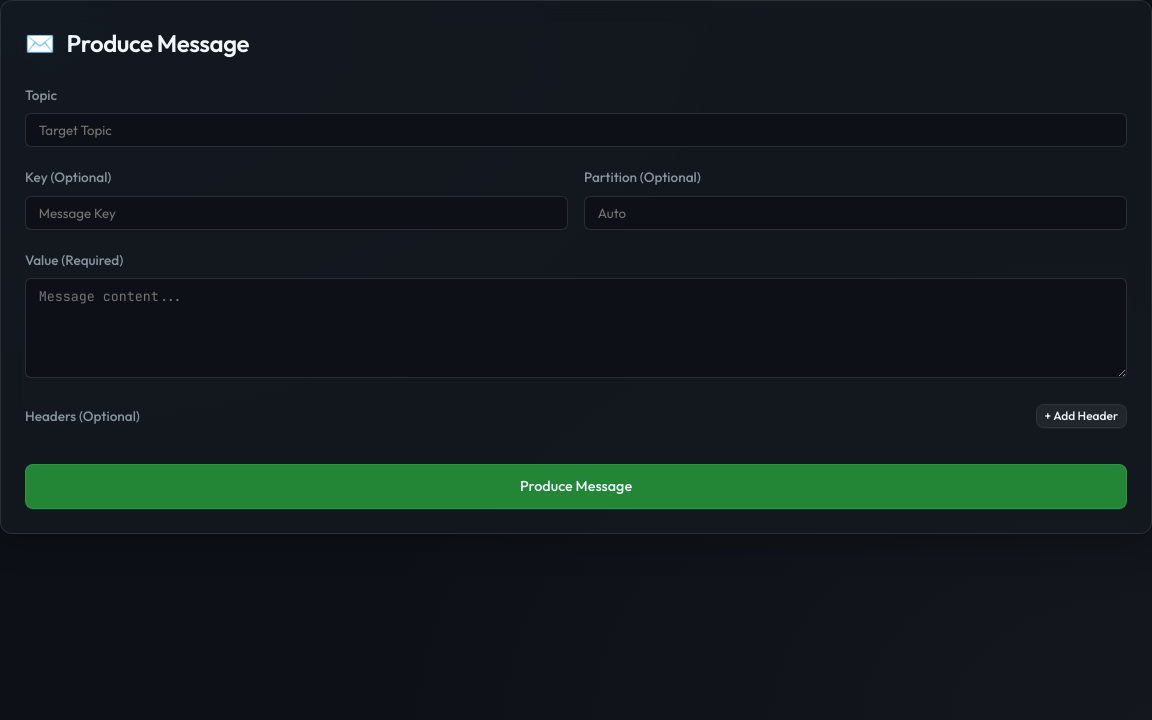
Test: ProducerPanel › submits the form and shows success message
Type "test-topic" into the field labelled "Topic".
click(576, 130); type("test-topic")  # box [25, 113, 1127, 147]
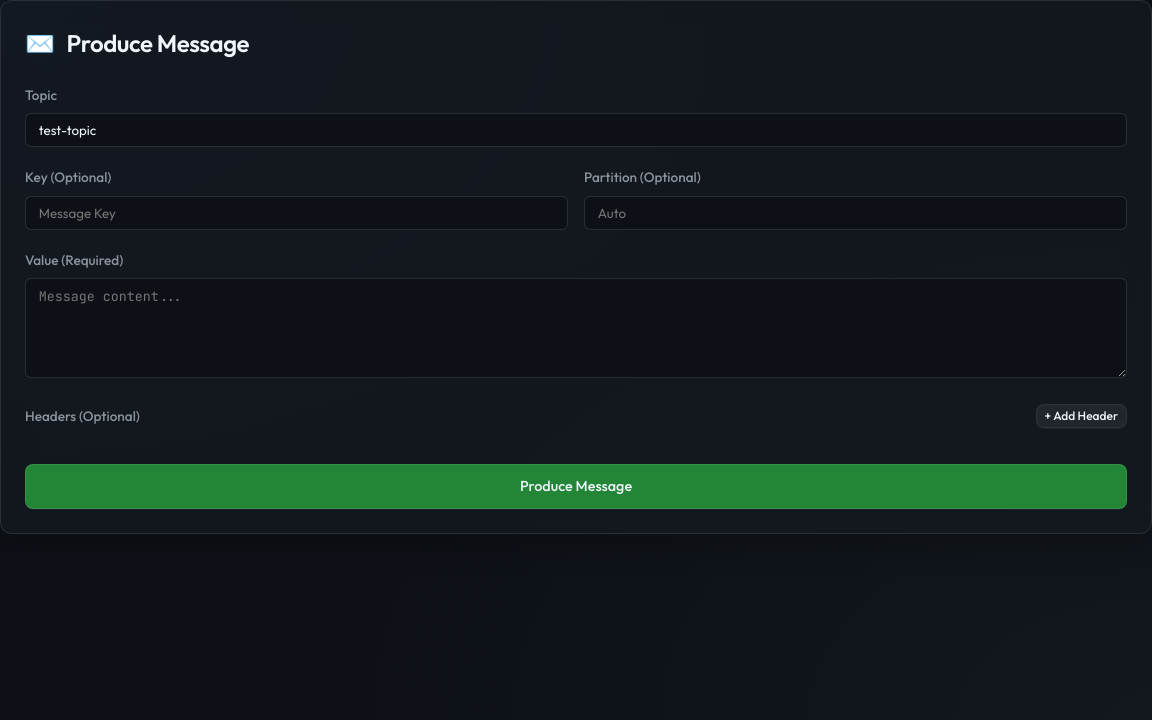
Type "hello kafka" into the text box labelled "Value (Required)".
click(576, 328); type("hello kafka")  # box [25, 278, 1127, 378]
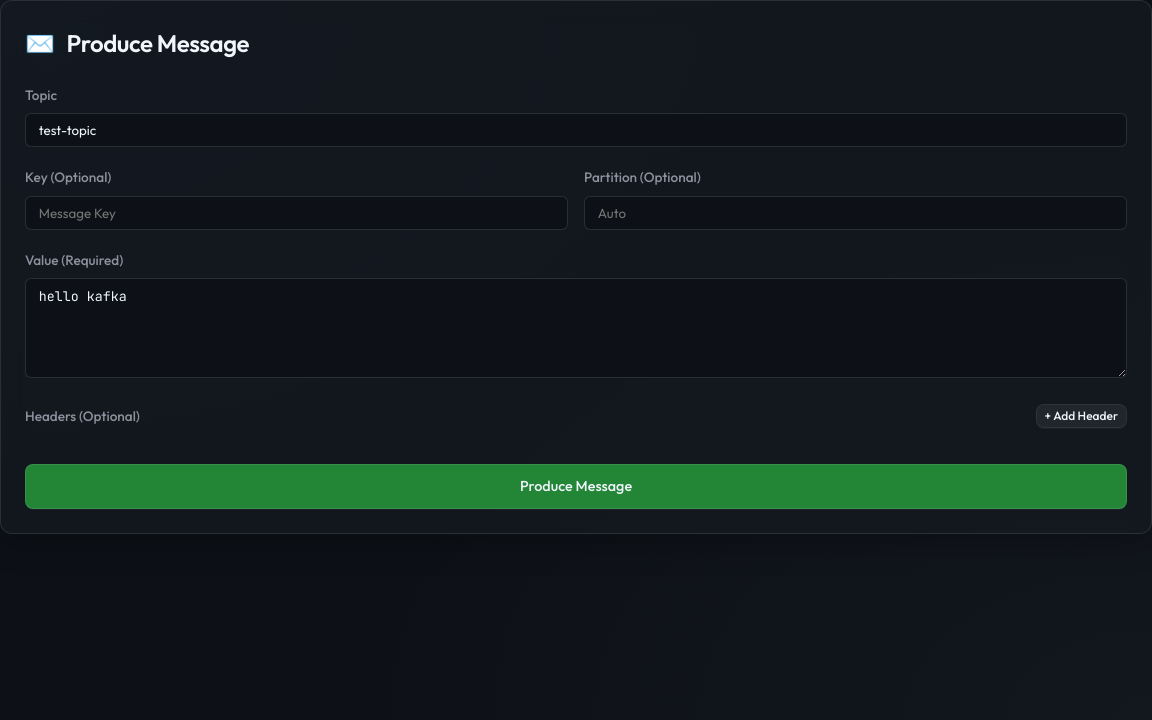
Click the button "Produce Message".
click(576, 486)  # box [25, 464, 1127, 509]
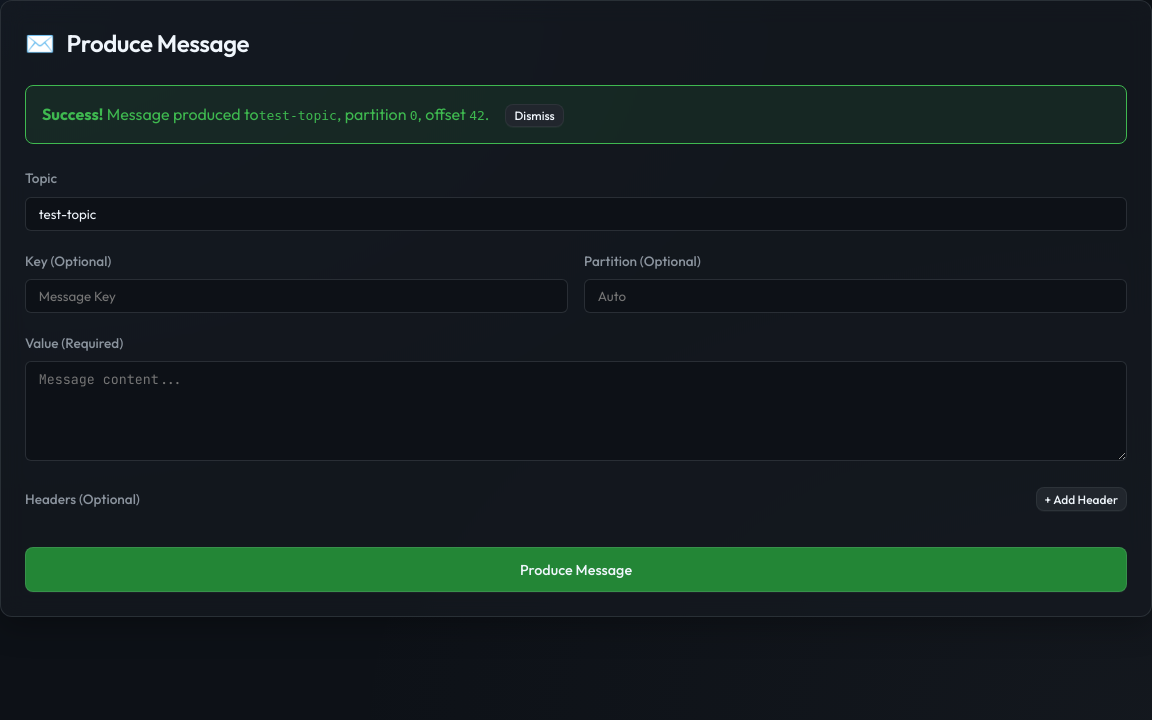
Now the text "Success!" is shown, box [42, 104, 104, 124]
Now the text "partition" is shown, box [337, 104, 410, 124]
Now the text "0" is shown, box [410, 108, 418, 123]
